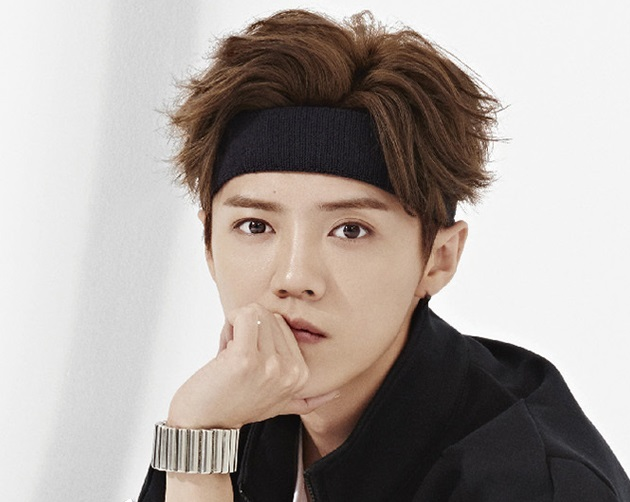face: (206, 147, 420, 392)
